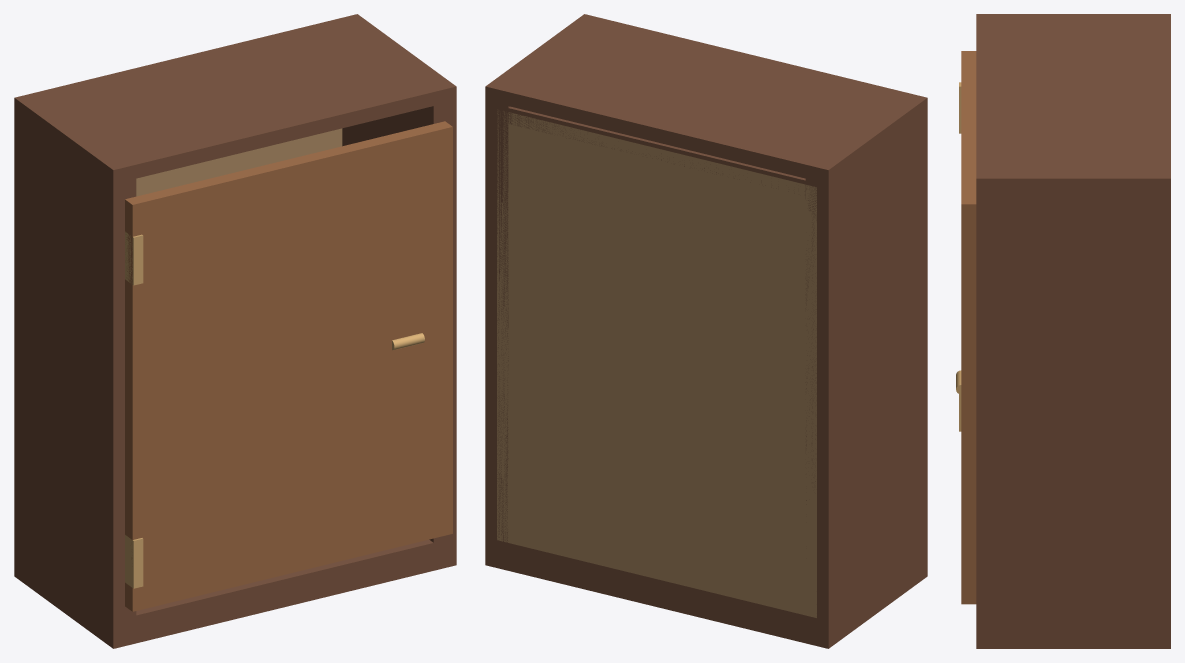
File: variant-flat-panel.glb
3 renders of one model, left to right at view 1: azimuth 30°, elevation 25°; view 2: azimuth 150°, elevation 25°; view 3: azimuth 270°, elevation 25°, orthographic.
Parts seen in each view (by area): view 1: cabinet-door-leaf, cabinet-side-left, cabinet-top, cabinet-bottom, cabinet-side-right, cabinet-inner-back, door-hinge-lower, door-hinge-upper; view 2: cabinet-inner-back, cabinet-side-left, cabinet-top, cabinet-bottom, cabinet-side-right, cabinet-back-rail; view 3: cabinet-side-right, cabinet-top, cabinet-door-leaf, cabinet-bottom.
Boxes of the visible parts, x1,y1,x2,y2 form: cabinet-door-leaf: (125, 121, 452, 611); cabinet-side-left: (14, 110, 136, 628); cabinet-top: (14, 14, 456, 183); cabinet-bottom: (14, 537, 456, 648); cabinet-side-right: (342, 100, 456, 549); cabinet-inner-back: (136, 128, 342, 196); door-hinge-lower: (125, 535, 143, 588); door-hinge-upper: (125, 231, 143, 285); cabinet-inner-back: (497, 109, 816, 617); cabinet-side-left: (805, 110, 927, 628); cabinet-top: (485, 14, 927, 183); cabinet-bottom: (485, 537, 927, 648); cabinet-side-right: (485, 98, 509, 550); cabinet-back-rail: (497, 106, 816, 197); cabinet-side-right: (976, 190, 1170, 629); cabinet-top: (976, 14, 1170, 192); cabinet-door-leaf: (961, 51, 976, 604); cabinet-bottom: (976, 621, 1170, 648).
Size of the model in its own units: 0.9 by 1.2 by 0.497.
